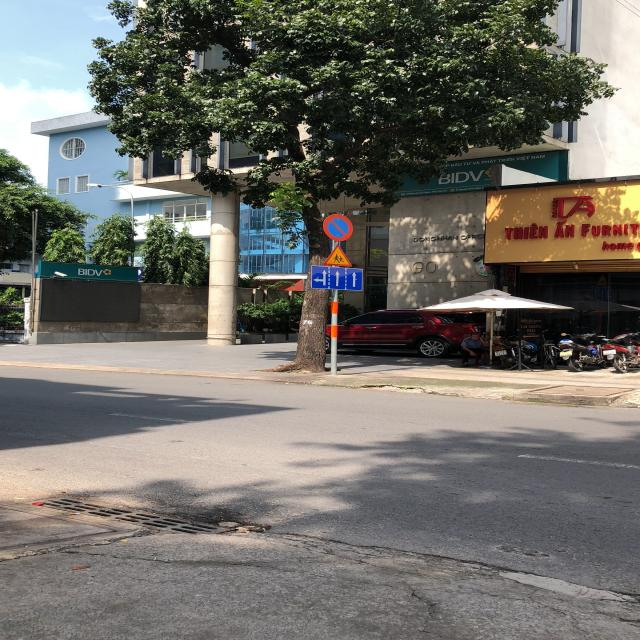Bien bao cam do xe: (323, 211, 360, 242)
Bien bao tre em: (320, 244, 356, 267)
